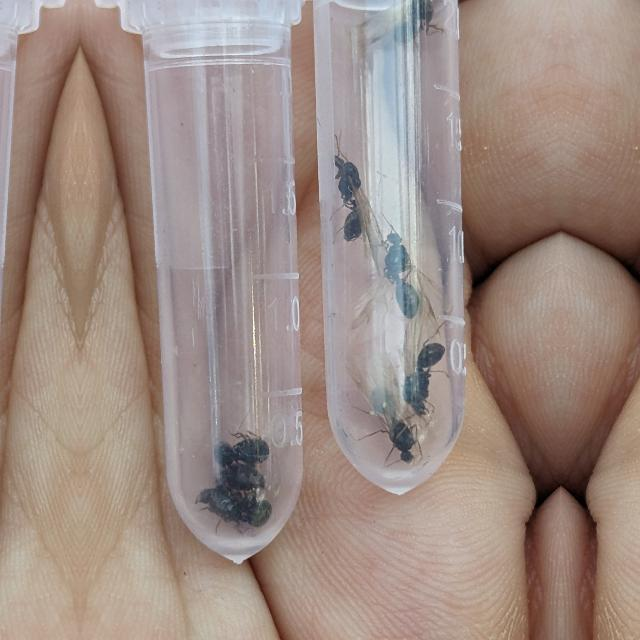Tetramorium: (354, 381, 432, 471), (373, 220, 435, 324), (396, 329, 454, 427), (370, 0, 454, 60), (330, 143, 370, 249), (190, 483, 270, 529), (198, 449, 276, 496), (210, 422, 274, 462)
